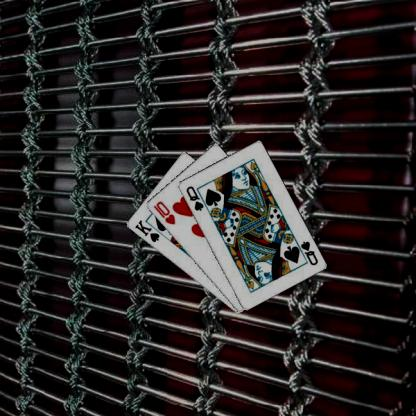10H: (150, 198, 177, 226)
KS: (132, 217, 160, 243)
QS: (183, 183, 205, 212), (298, 238, 319, 266)
